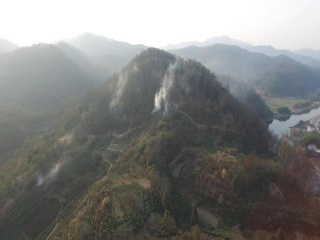smoke: (149, 59, 189, 124)
